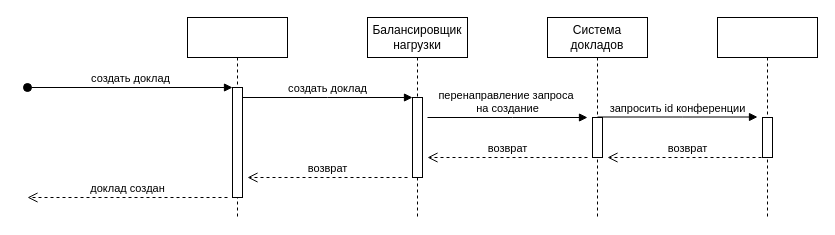
This 835x235 diagram has some shape labels left out. Here are the shapes that lost their labels. From the top down, the centre of each, then its label:
[237,117]: Портал докладов
[767,117]: Система конференций
